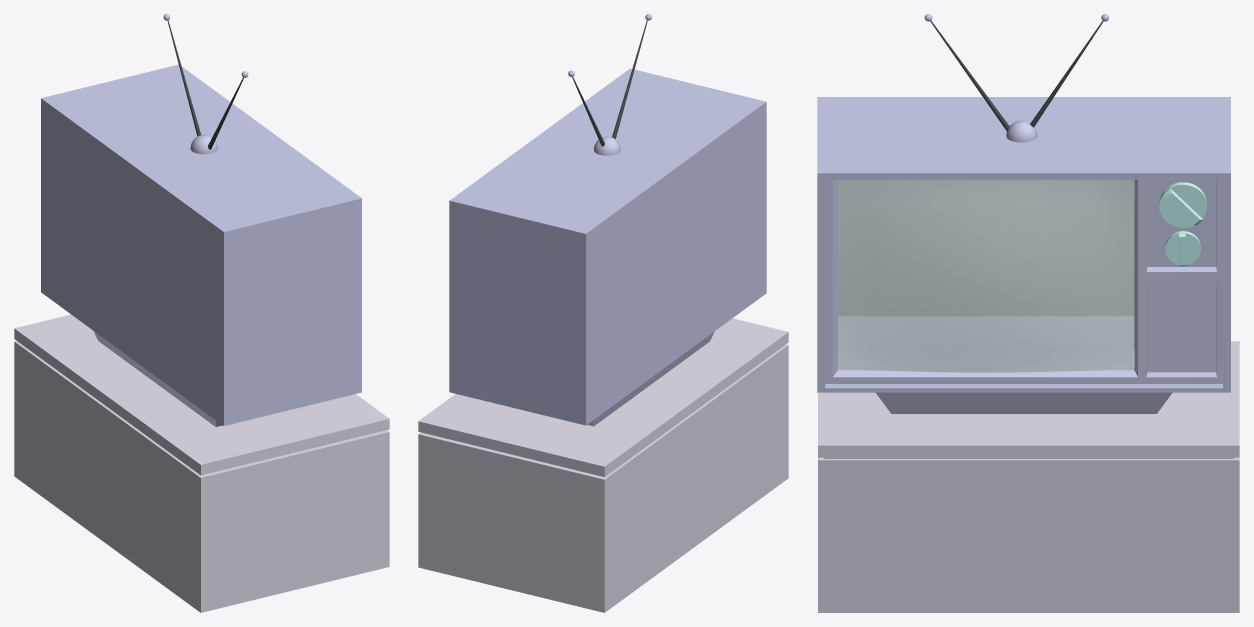
The picture shows the model from 3 angles, left to right: view 1: azimuth 30°, elevation 25°; view 2: azimuth 150°, elevation 25°; view 3: azimuth 270°, elevation 25°; orthographic projection. The views are drawn at different scales.
Visible parts, largest first — view 1: Cube.002, Cube.003, Cube.001; view 2: Cube.002, Cube.003, Cube.001; view 3: Cube.002, Cube.003, Cube.001, Circle, Circle.001.
Boxes of the visible parts, left/top/right/bottom form: Cube.002: left=41, top=64, right=361, bottom=425; Cube.003: left=14, top=314, right=389, bottom=612; Cube.001: left=93, top=331, right=222, bottom=426; Cube.002: left=449, top=68, right=766, bottom=425; Cube.003: left=418, top=318, right=788, bottom=612; Cube.001: left=587, top=331, right=714, bottom=426; Cube.002: left=817, top=97, right=1230, bottom=392; Cube.003: left=818, top=341, right=1239, bottom=612; Cube.001: left=876, top=392, right=1172, bottom=413; Circle: left=1159, top=182, right=1206, bottom=227; Circle.001: left=1165, top=231, right=1200, bottom=266.
Size of what is drawn, in the model's own units: 2.73 by 6.68 by 4.68.
